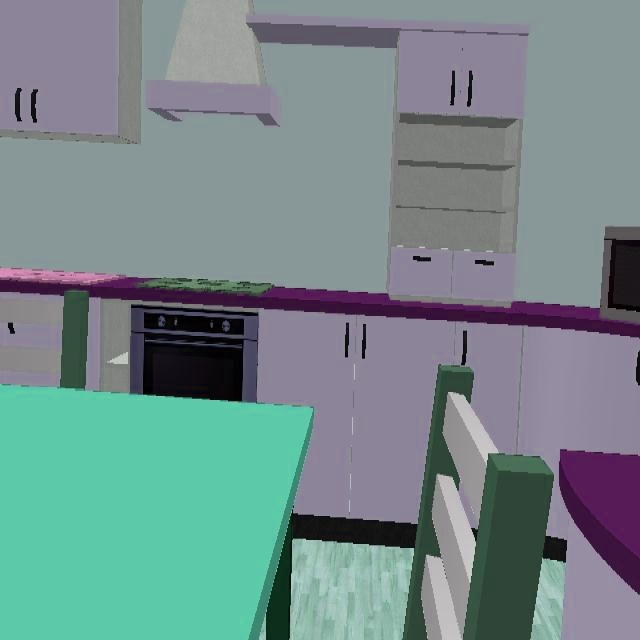cabinet: (256, 310, 640, 561), (244, 13, 531, 307), (0, 0, 143, 145), (561, 514, 640, 639), (85, 297, 137, 395), (0, 322, 61, 351), (0, 369, 60, 387)
chair: (403, 366, 554, 640), (0, 290, 89, 390)
countertop: (0, 268, 640, 328), (559, 450, 640, 596)
microwave: (599, 226, 640, 324)
stove: (133, 278, 274, 295)
table: (0, 386, 314, 640)
